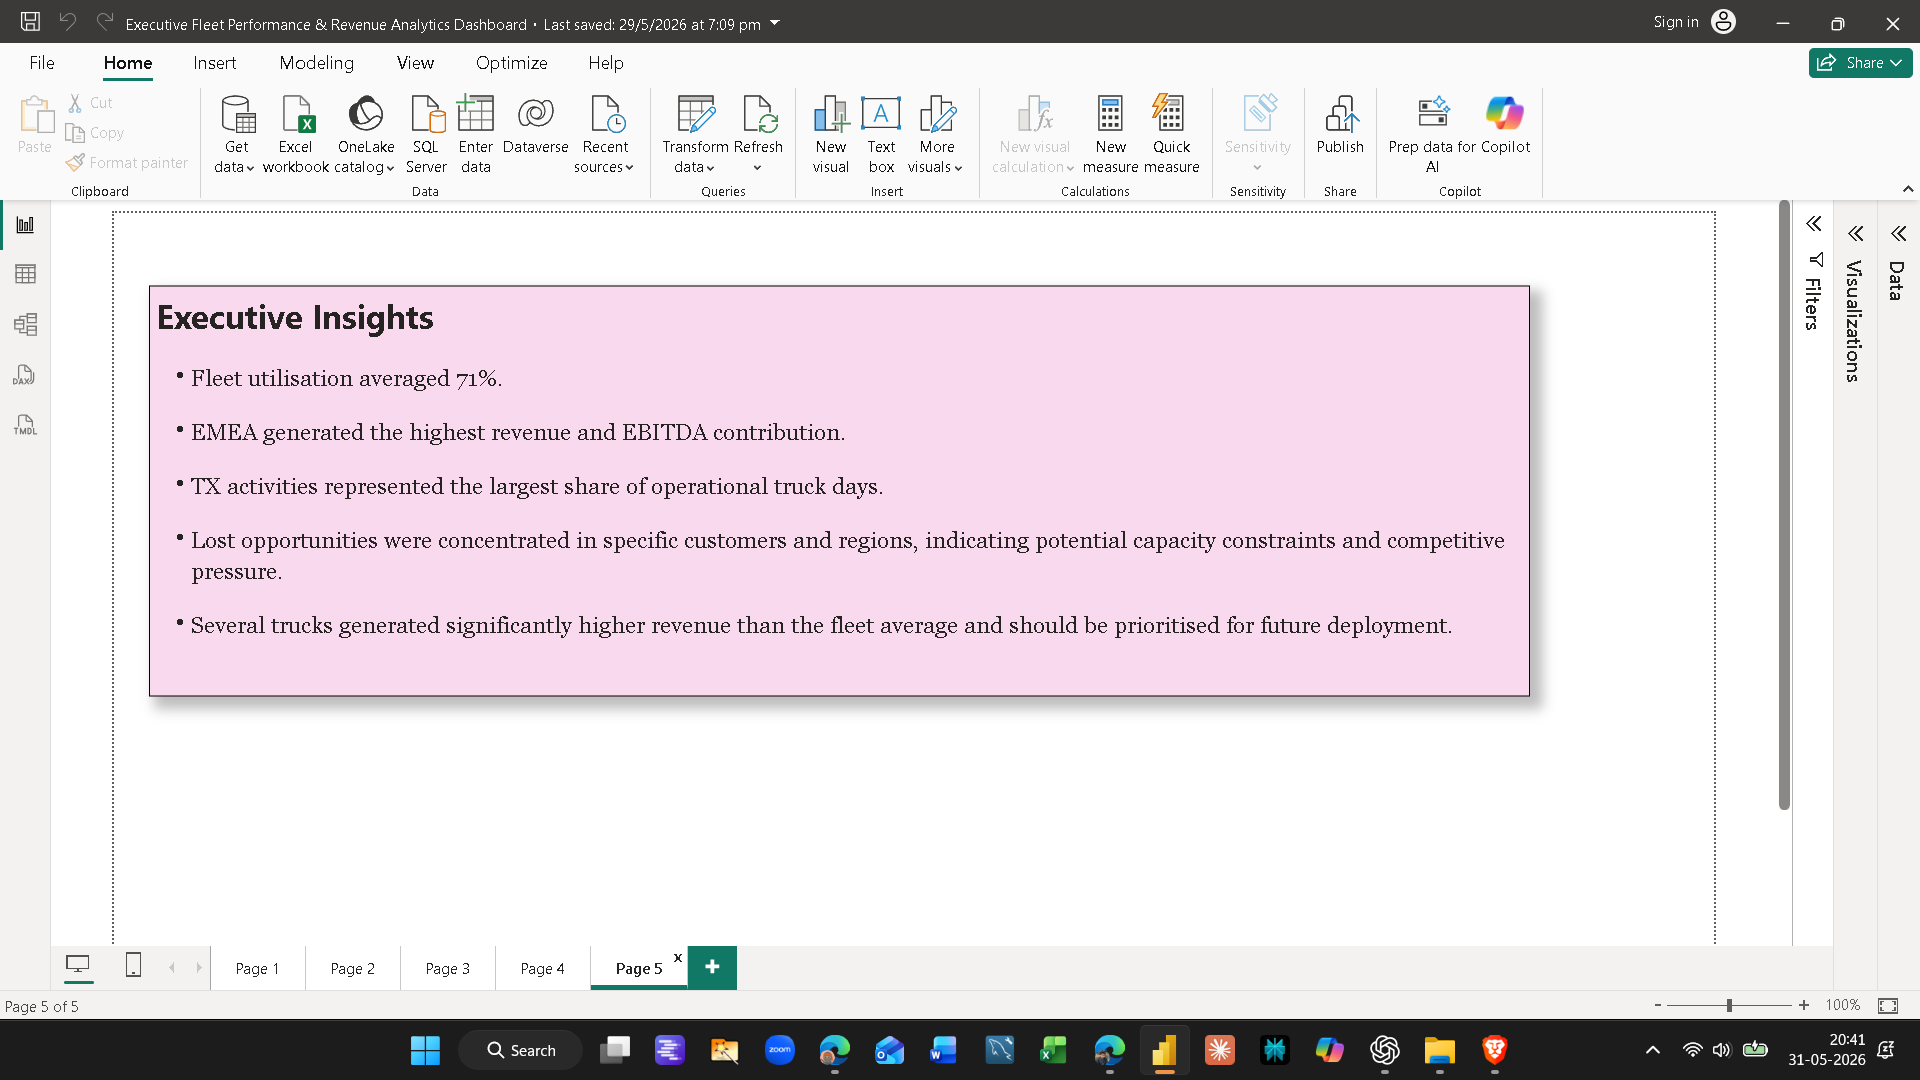

Layout of this report page (visuals, bound fields, positions):
{"tool":"powerbi","page":{"name":"Page 5","canvas":[1280,720],"ordinal":4},"visuals":[{"type":"textbox","box":[28,58,1105,329],"z":0}]}

Visuals, with their boxes on the page's 1280x720 design canvas (x1, y1, x2, y2). These are canvas units, not pixel positions in the 1920x1080 screenshot, which may show the page scaled, cropped or inside an application window:
textbox: l=28, t=58, r=1133, b=387
